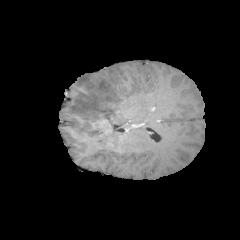glioma: (64, 66, 127, 126)
